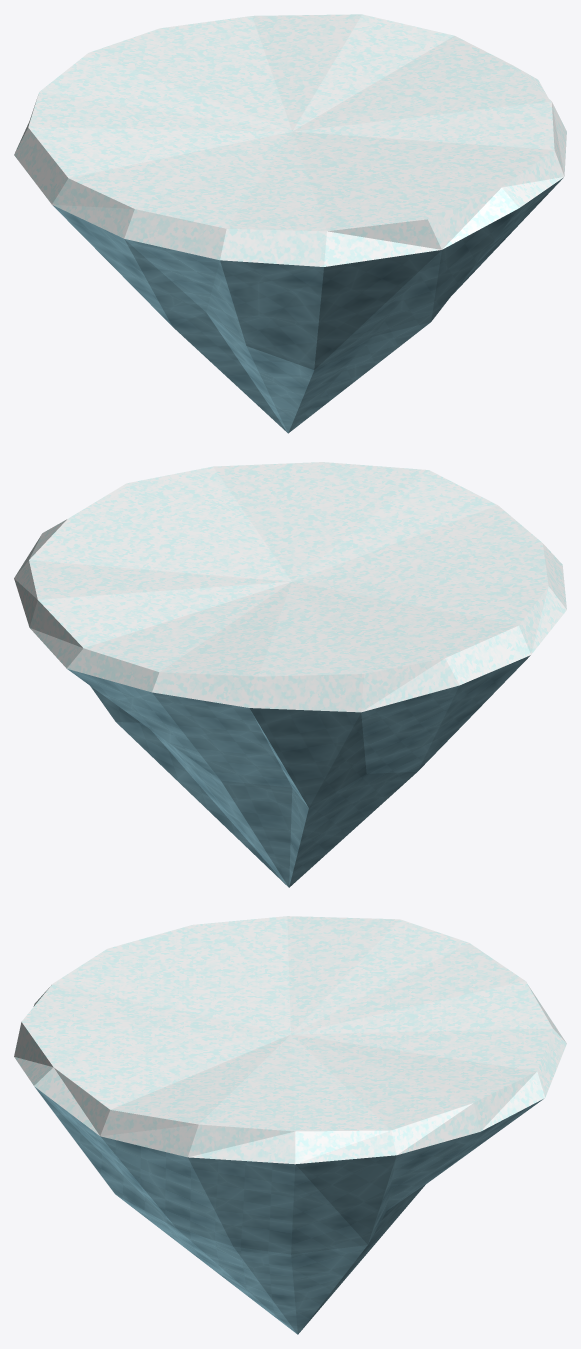
Rendered from floating_island_2.glb.
The picture shows the model from 3 angles, top to bottom: view 1: azimuth 30°, elevation 25°; view 2: azimuth 150°, elevation 25°; view 3: azimuth 270°, elevation 25°; orthographic projection.
Parts seen in each view (by area): view 1: floating_island_2; view 2: floating_island_2; view 3: floating_island_2.
Part boxes in pixels (x1=…): floating_island_2: x1=14, y1=14, x2=566, y2=433; floating_island_2: x1=14, y1=462, x2=566, y2=887; floating_island_2: x1=14, y1=916, x2=566, y2=1334.
Size of the model in its own units: 10.57 by 6.6 by 10.49.
Materials: 2 (2 with a texture image).
